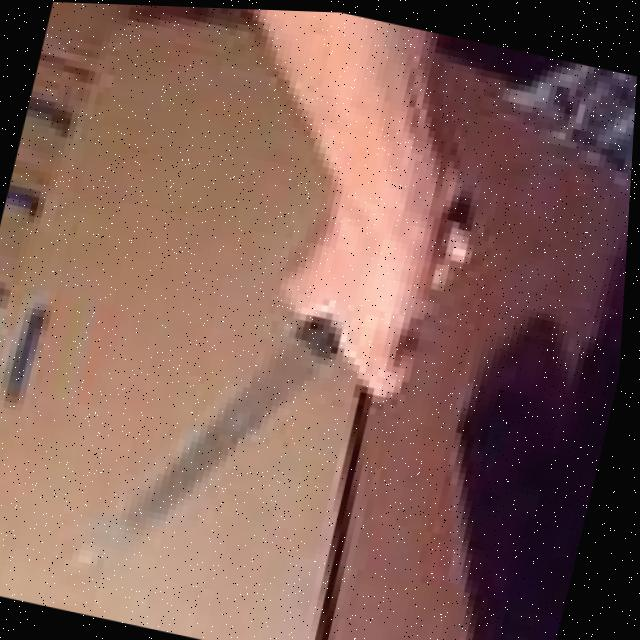knife: (99, 139, 489, 622)
